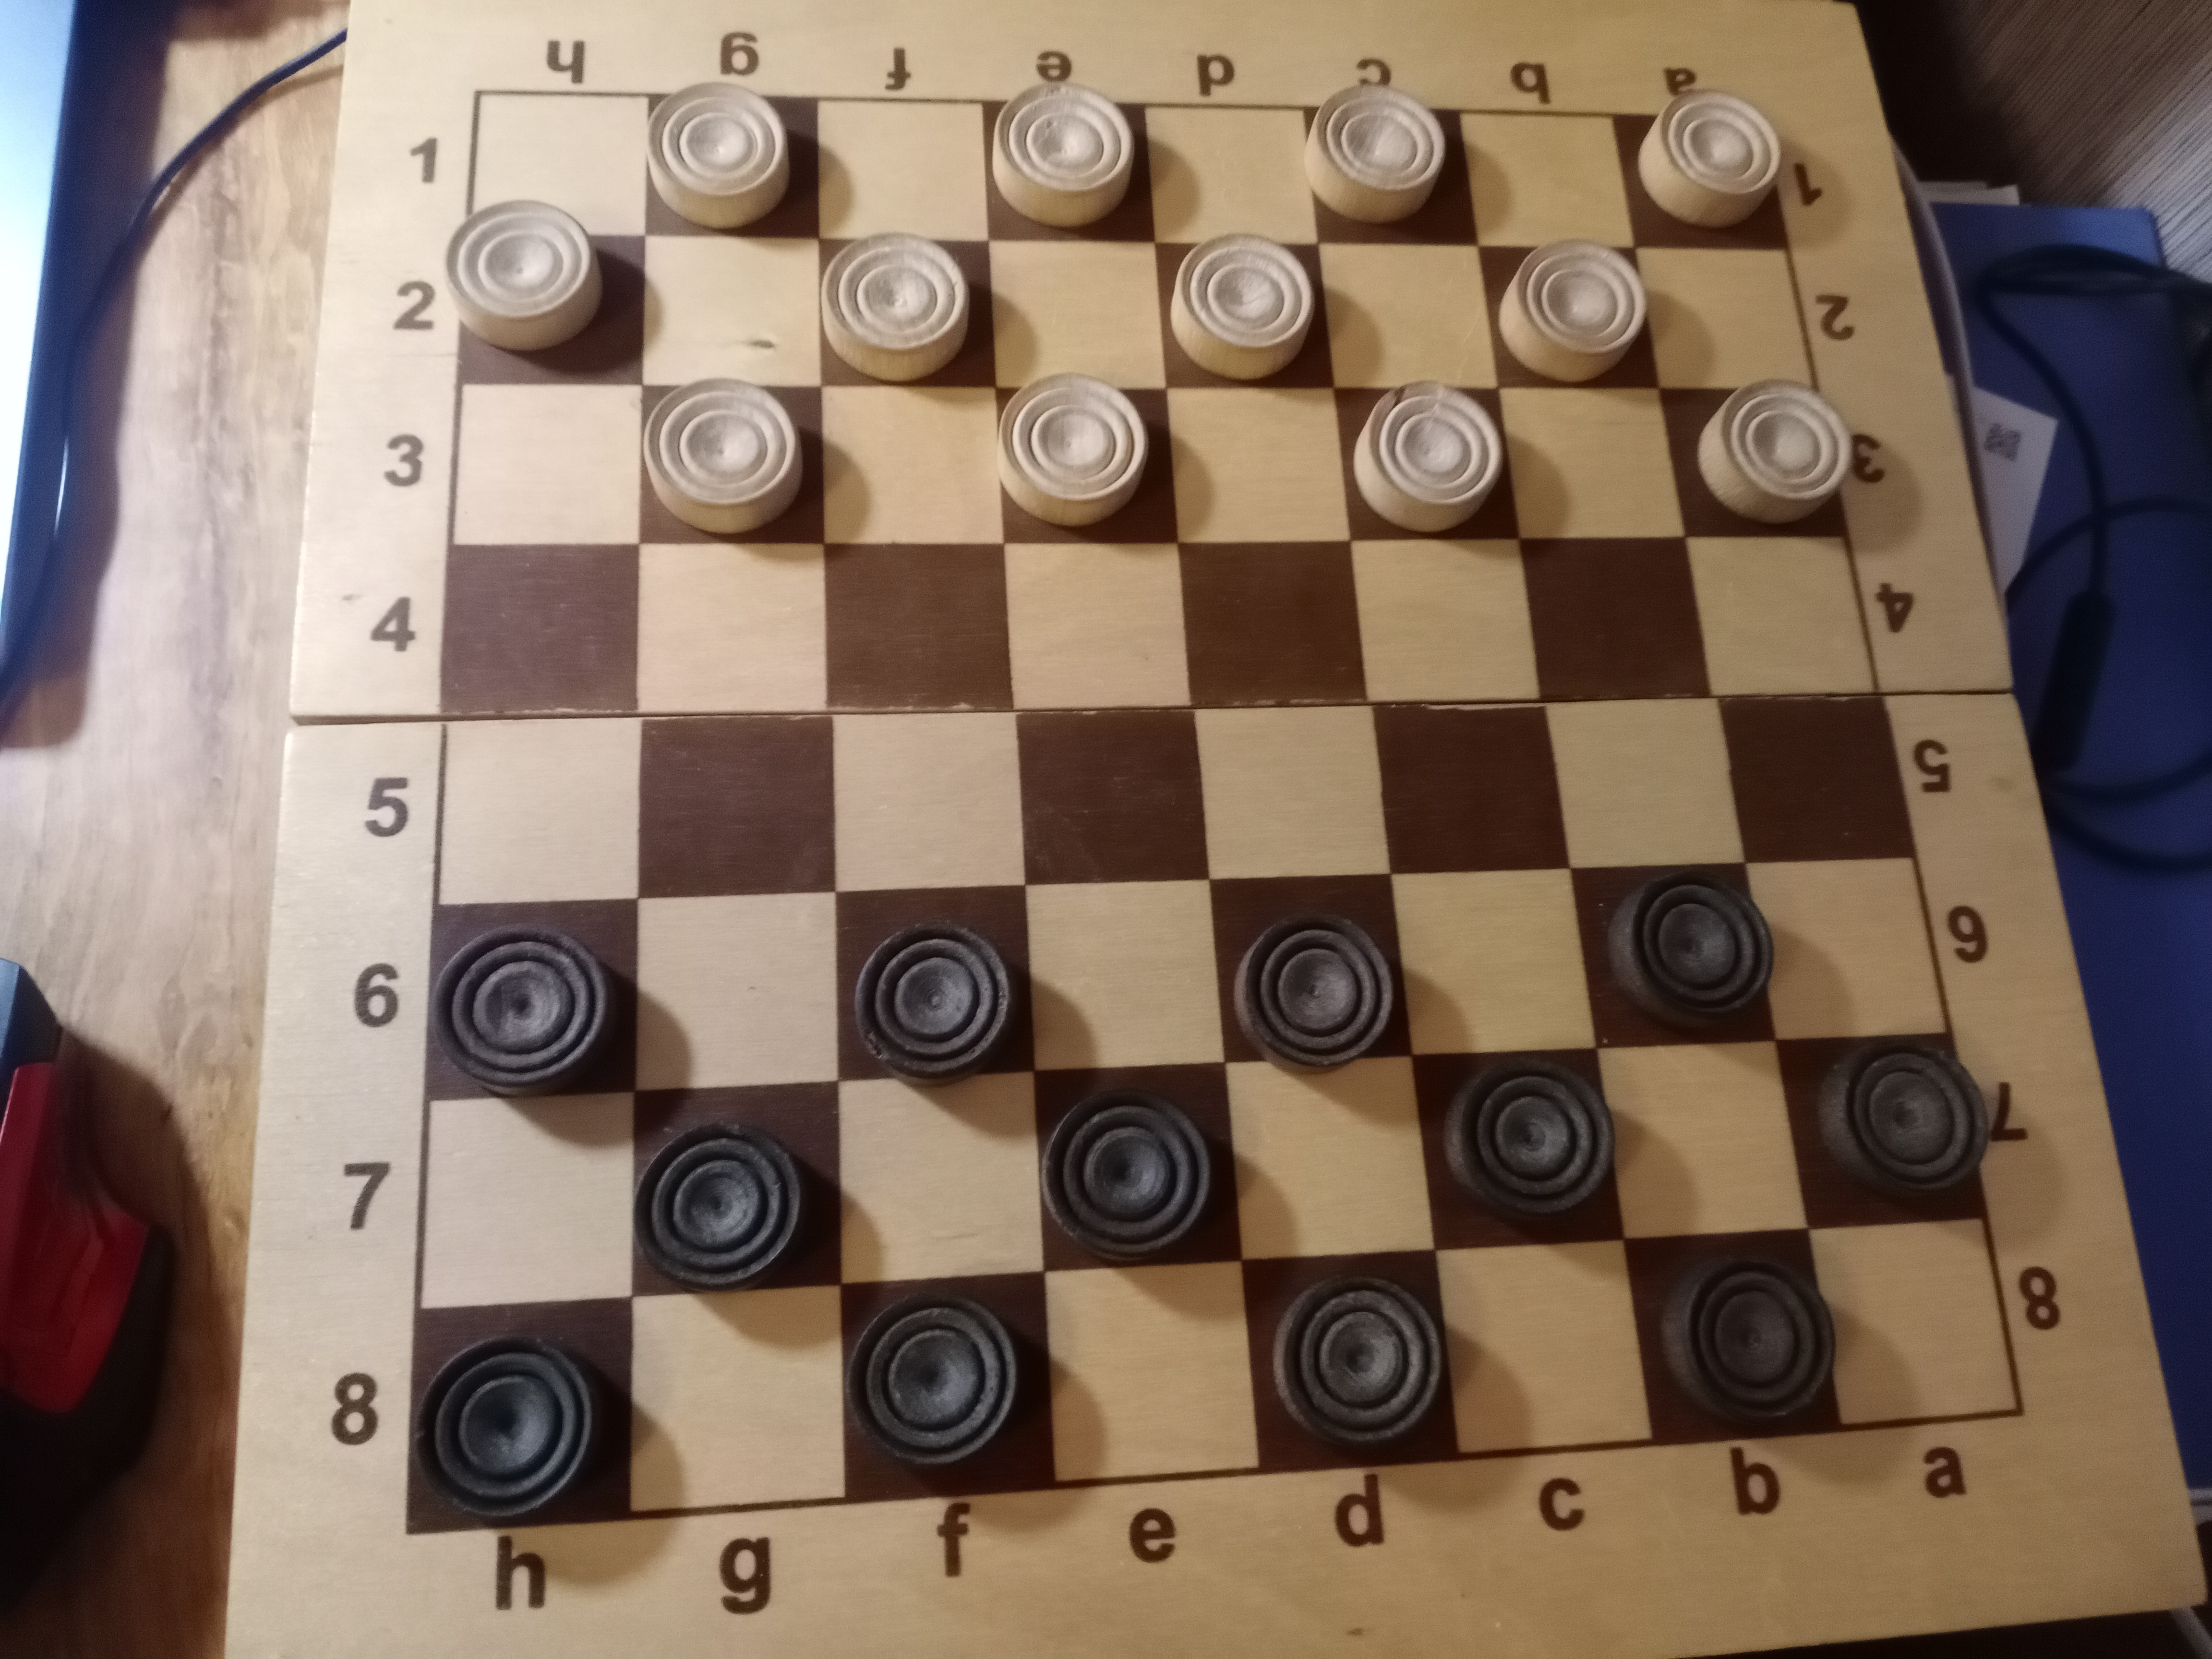White_Draught: (442, 200, 644, 385), (995, 373, 1179, 544), (1658, 380, 1855, 537), (1332, 380, 1522, 540), (641, 378, 824, 544), (981, 77, 1157, 244), (1611, 89, 1789, 251), (1155, 232, 1334, 390), (1305, 85, 1479, 246), (644, 82, 820, 240), (820, 232, 998, 387), (1477, 239, 1658, 389)
